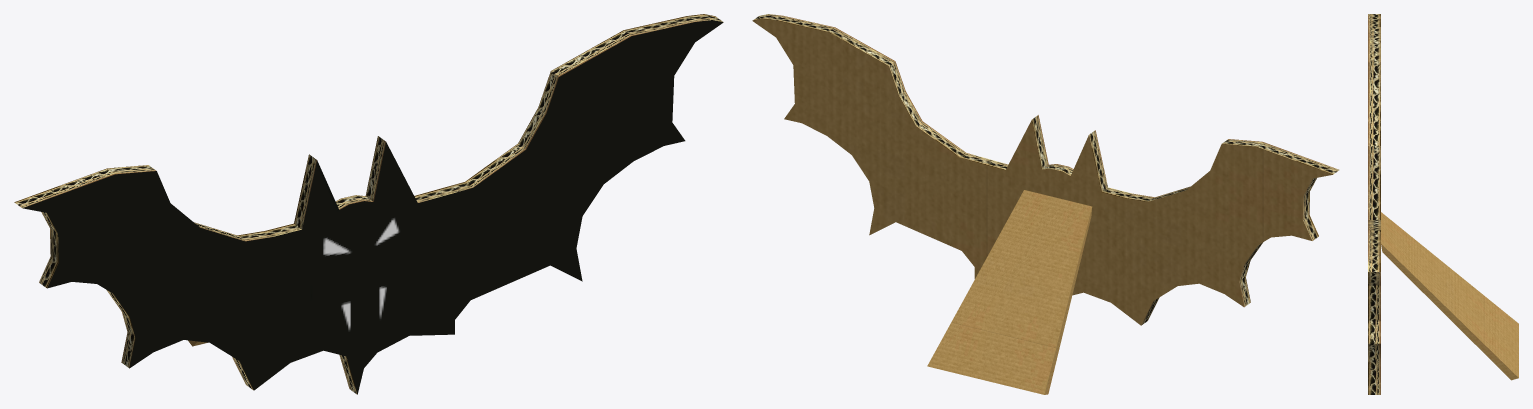
Rendered from cardboard_bat_2_s.fbx.
3 views of the same model, side by side, from view 1: azimuth 30°, elevation 25°; view 2: azimuth 150°, elevation 25°; view 3: azimuth 270°, elevation 25° (orthographic). The views are drawn at different scales.
Visible parts, largest first — view 1: cardboard_bat_2_s; view 2: cardboard_bat_2_s; view 3: cardboard_bat_2_s.
Part boxes in pixels (<box>): cardboard_bat_2_s: <box>14,14,723,394</box>; cardboard_bat_2_s: <box>752,14,1339,394</box>; cardboard_bat_2_s: <box>1368,14,1518,394</box>.
Bounding box in the file's own units: 2.28 × 0.9074 × 0.5393.
